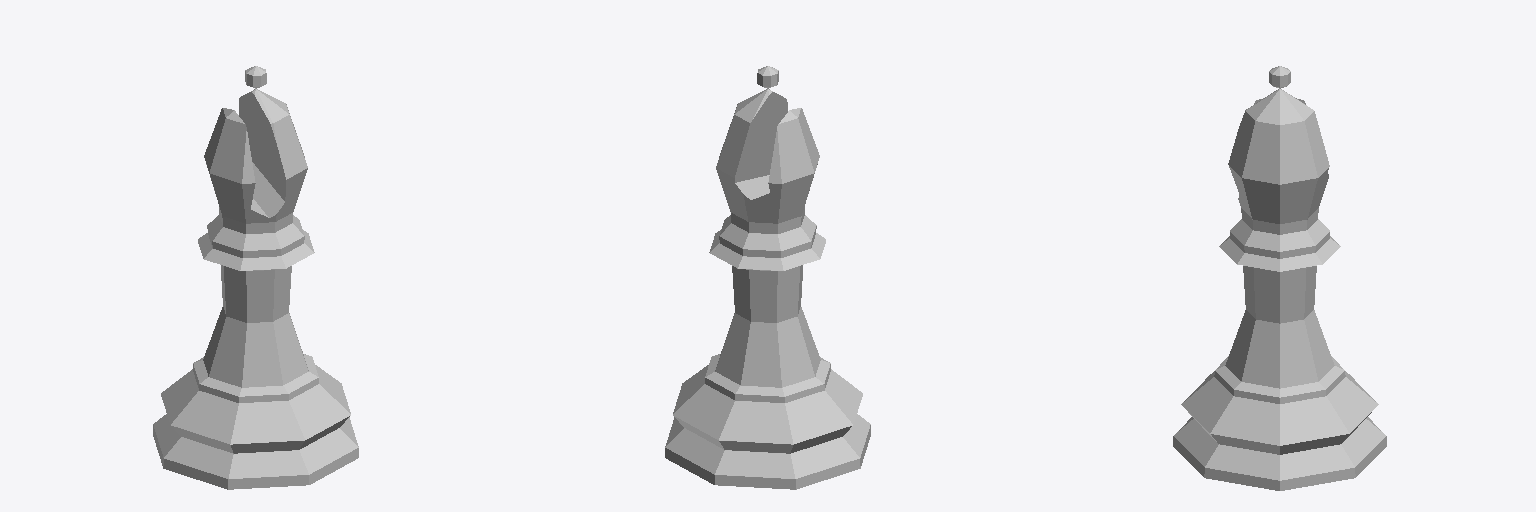
Rendered from bishop.obj.
3 views of the same model, side by side, from view 1: azimuth 30°, elevation 25°; view 2: azimuth 150°, elevation 25°; view 3: azimuth 270°, elevation 25° (orthographic).
Parts seen in each view (by area): view 1: Bishop; view 2: Bishop; view 3: Bishop.
Part boxes in pixels (left/top/right/bottom): Bishop: left=153, top=66, right=358, bottom=489; Bishop: left=665, top=66, right=870, bottom=489; Bishop: left=1173, top=66, right=1386, bottom=490.
Bounding box in the file's own units: 4 × 7.85 × 4.